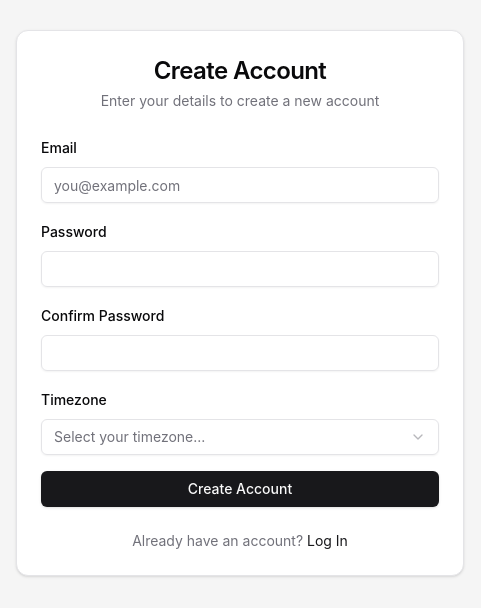
RegisterPage › should show validation error when timezone is not selected
This screenshot has width=481, height=608.
Type "test@example.com" into the field labelled "Email" at (240, 185), box x1=41 y1=167 x2=439 y2=203
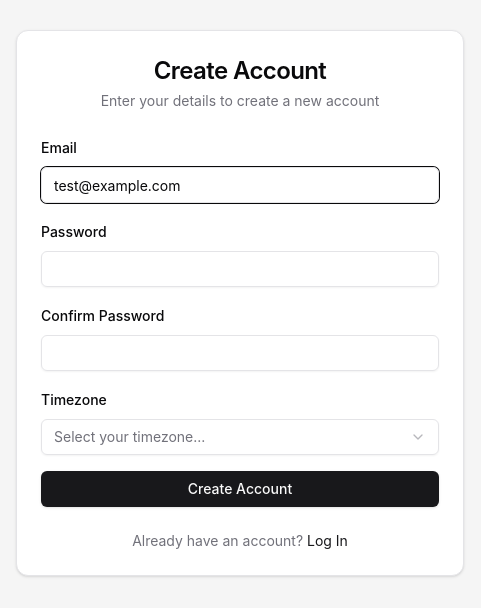
Type "password123" into the password field labelled "Password" at (240, 269), box x1=41 y1=251 x2=439 y2=287
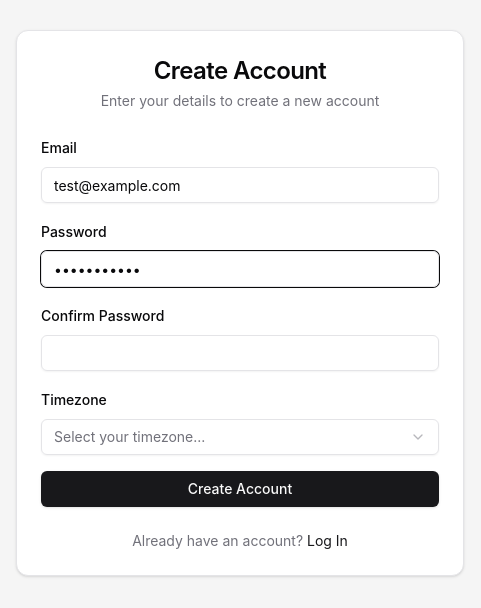
Type "password123" into the password field labelled "Confirm Password" at (240, 353), box x1=41 y1=335 x2=439 y2=371
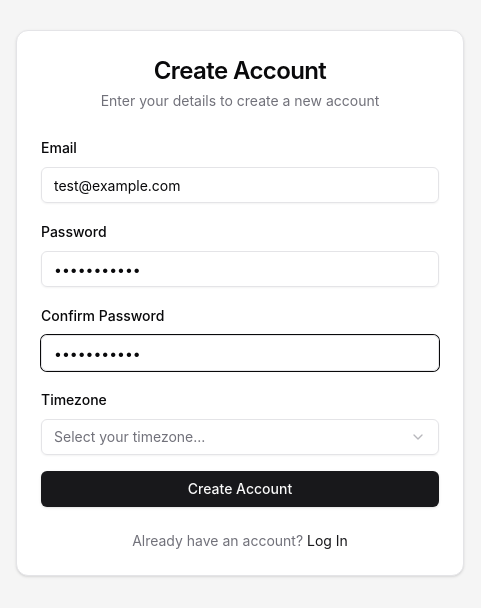
Click the button "Create Account" at (240, 489), box x1=41 y1=471 x2=439 y2=507
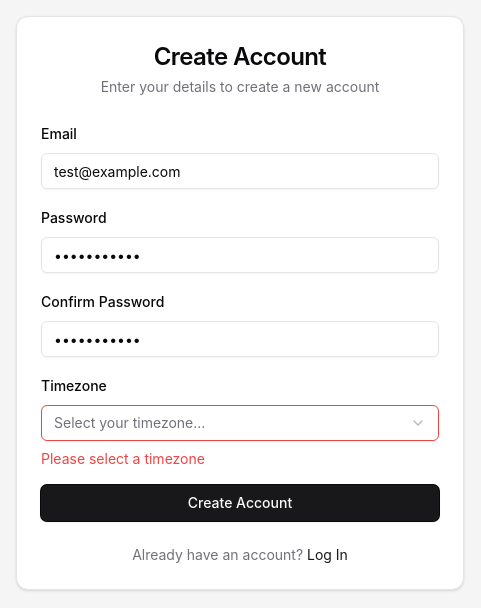
Now the text "Please select a timezone" is shown, box x1=41 y1=450 x2=205 y2=467
